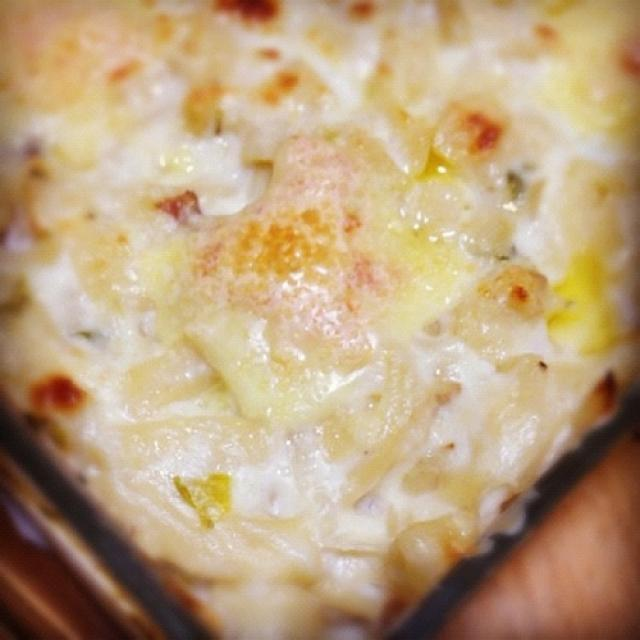米饭主食: (13, 16, 613, 624)
